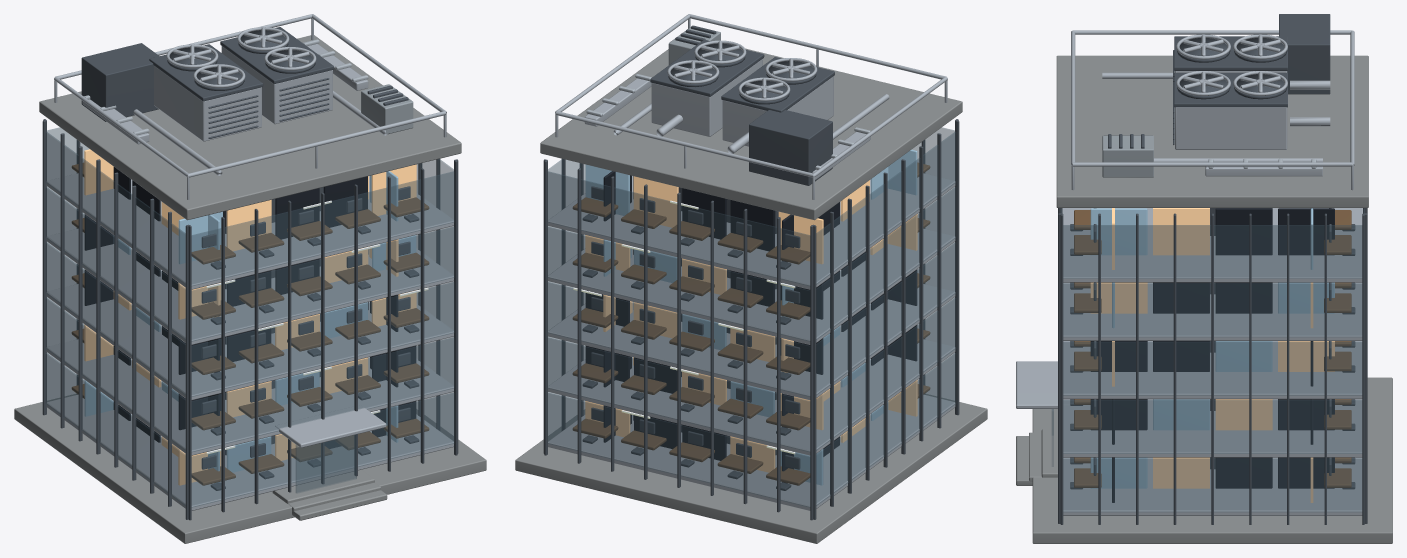
Rendered from office.glb.
3 views of the same model, side by side, from view 1: azimuth 30°, elevation 25°; view 2: azimuth 150°, elevation 25°; view 3: azimuth 270°, elevation 25° (orthographic). The views are drawn at different scales.
Parts seen in each view (by area): view 1: body_glass.043, body_steel.160, body_dark.150, body_concrete.049, body_wood.019, body_window_dark.012, body_window.019, body_steel.161, body_window_cool.012, body_dark.151, body_ceramic.024; view 2: body_glass.043, body_steel.160, body_dark.150, body_concrete.049, body_wood.019, body_window_dark.012, body_window.019, body_steel.161, body_window_cool.012, body_dark.151, body_ceramic.024, body_warm.104; view 3: body_glass.043, body_steel.160, body_concrete.049, body_dark.150, body_window_dark.012, body_window.019, body_steel.161, body_window_cool.012, body_wood.019, body_dark.151, body_ceramic.024.
Part boxes in pixels (left/top/right/bottom): body_glass.043: left=46, top=127, right=454, bottom=507; body_steel.160: left=46, top=40, right=453, bottom=510; body_dark.150: left=42, top=27, right=458, bottom=520; body_concrete.049: left=14, top=35, right=486, bottom=543; body_wood.019: left=71, top=162, right=429, bottom=485; body_window_dark.012: left=84, top=167, right=416, bottom=448; body_window.019: left=84, top=149, right=416, bottom=485; body_steel.161: left=54, top=14, right=446, bottom=199; body_window_cool.012: left=84, top=171, right=416, bottom=483; body_dark.151: left=167, top=30, right=315, bottom=90; body_ceramic.024: left=361, top=84, right=413, bottom=134; body_glass.043: left=547, top=127, right=955, bottom=507; body_steel.160: left=548, top=59, right=955, bottom=510; body_dark.150: left=543, top=25, right=959, bottom=520; body_concrete.049: left=515, top=48, right=987, bottom=543; body_wood.019: left=572, top=162, right=930, bottom=485; body_window_dark.012: left=585, top=171, right=917, bottom=483; body_window.019: left=585, top=176, right=917, bottom=472; body_steel.161: left=555, top=14, right=947, bottom=199; body_window_cool.012: left=585, top=149, right=917, bottom=485; body_dark.151: left=668, top=43, right=816, bottom=104; body_ceramic.024: left=668, top=27, right=720, bottom=64; body_warm.104: left=573, top=200, right=795, bottom=454; body_glass.043: left=1051, top=209, right=1364, bottom=512; body_steel.160: left=1016, top=71, right=1362, bottom=515; body_concrete.049: left=1016, top=55, right=1392, bottom=543; body_dark.150: left=1058, top=14, right=1367, bottom=524; body_window_dark.012: left=1090, top=208, right=1334, bottom=502; body_window.019: left=1090, top=208, right=1334, bottom=502; body_steel.161: left=1071, top=30, right=1354, bottom=190; body_window_cool.012: left=1090, top=208, right=1334, bottom=488; body_wood.019: left=1074, top=210, right=1351, bottom=487; body_dark.151: left=1177, top=38, right=1287, bottom=99; body_ceramic.024: left=1102, top=135, right=1153, bottom=177.
Bounding box in the file's own units: 2 × 2.43 × 2.05.
